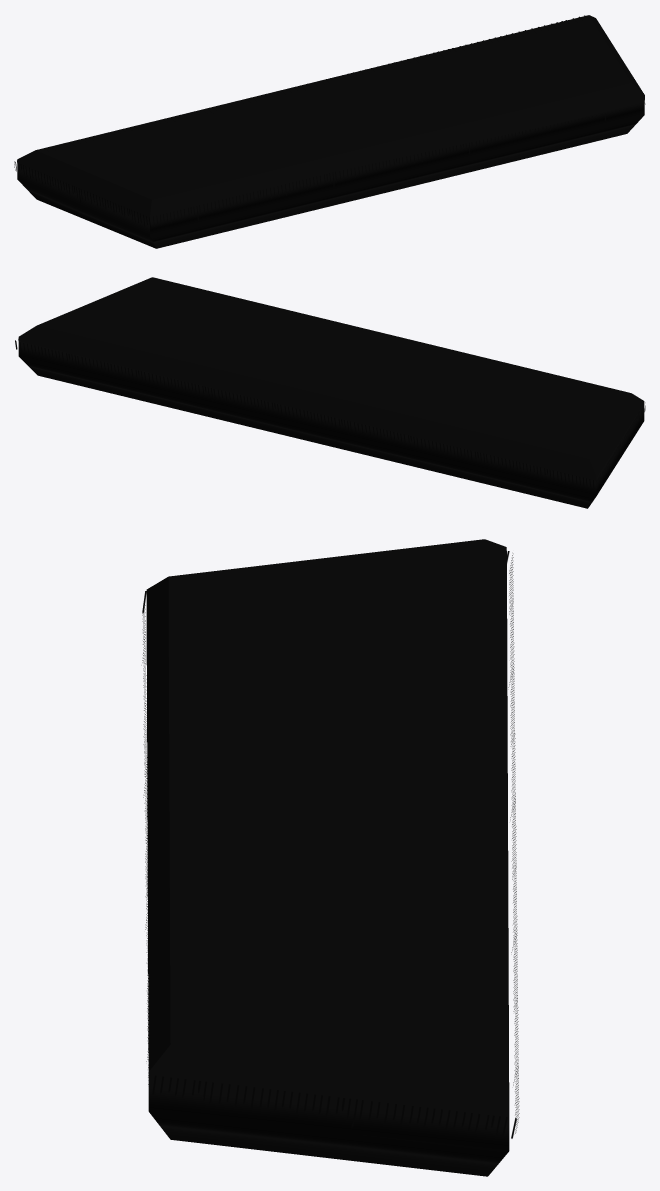
Rendered from crystal-crossroads__Platform_Step.glb.
The picture shows the model from 3 angles, top to bottom: view 1: azimuth 30°, elevation 25°; view 2: azimuth 150°, elevation 25°; view 3: azimuth 270°, elevation 25°; orthographic projection. The views are drawn at different scales.
Parts seen in each view (by area): view 1: Platform_Step; view 2: Platform_Step; view 3: Platform_Step.
Part boxes in pixels (box(x1,y1,x2,y2)): Platform_Step: box(14, 15, 645, 248); Platform_Step: box(15, 277, 645, 508); Platform_Step: box(141, 539, 519, 1176).
Size of the model in its own units: 2.34 by 0.1962 by 0.6606.
3 materials, 2 textured.
